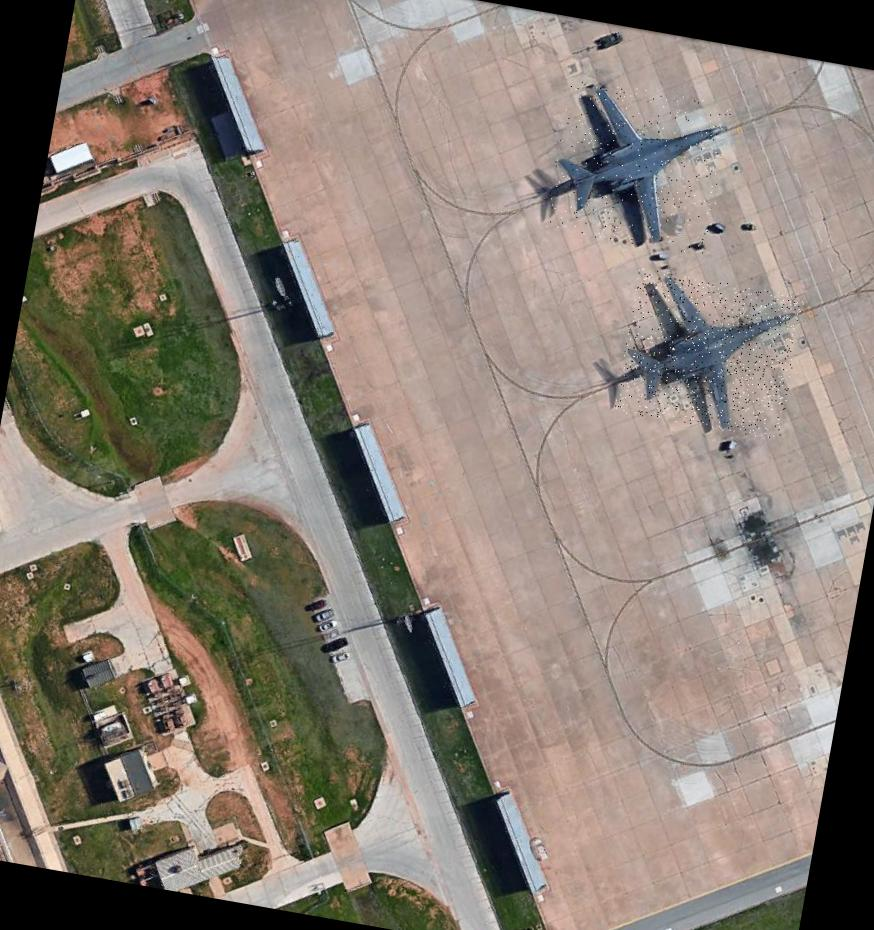A10: (544, 77, 733, 256), (614, 267, 805, 440)
